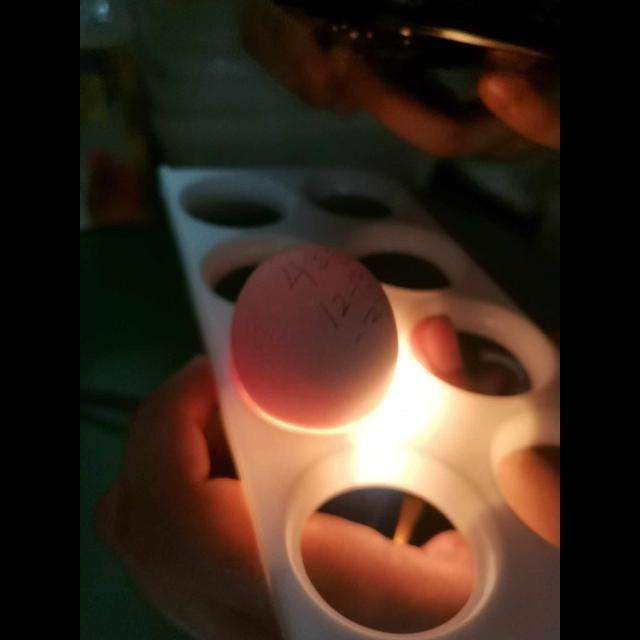Fertile: (222, 235, 404, 430)
